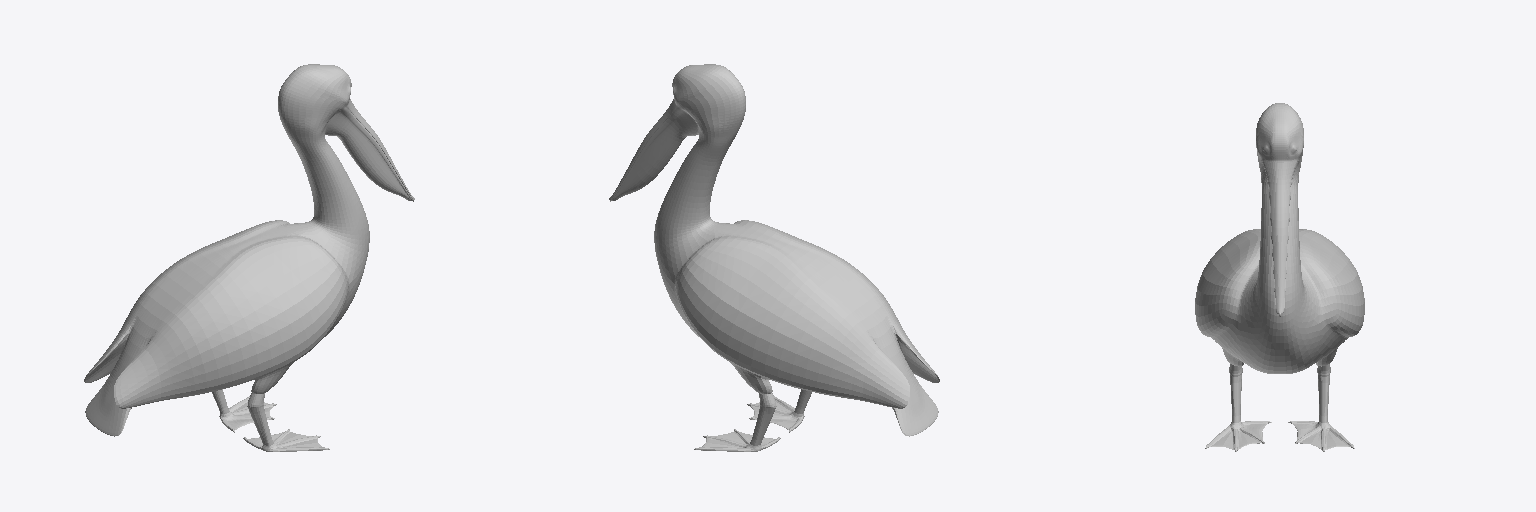
The model's file is pelicano.obj.
3 renders of one model, left to right at view 1: azimuth 30°, elevation 25°; view 2: azimuth 150°, elevation 25°; view 3: azimuth 270°, elevation 25°, orthographic.
Parts seen in each view (by area): view 1: pelicano; view 2: pelicano; view 3: pelicano.
Part boxes in pixels (x1,y1,x2,y2): pelicano: (84, 64, 414, 451); pelicano: (609, 64, 939, 451); pelicano: (1195, 103, 1364, 451).
Size of the model in its own units: 4.66 by 4.94 by 2.17.